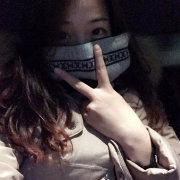OK: (44, 13, 122, 91)
